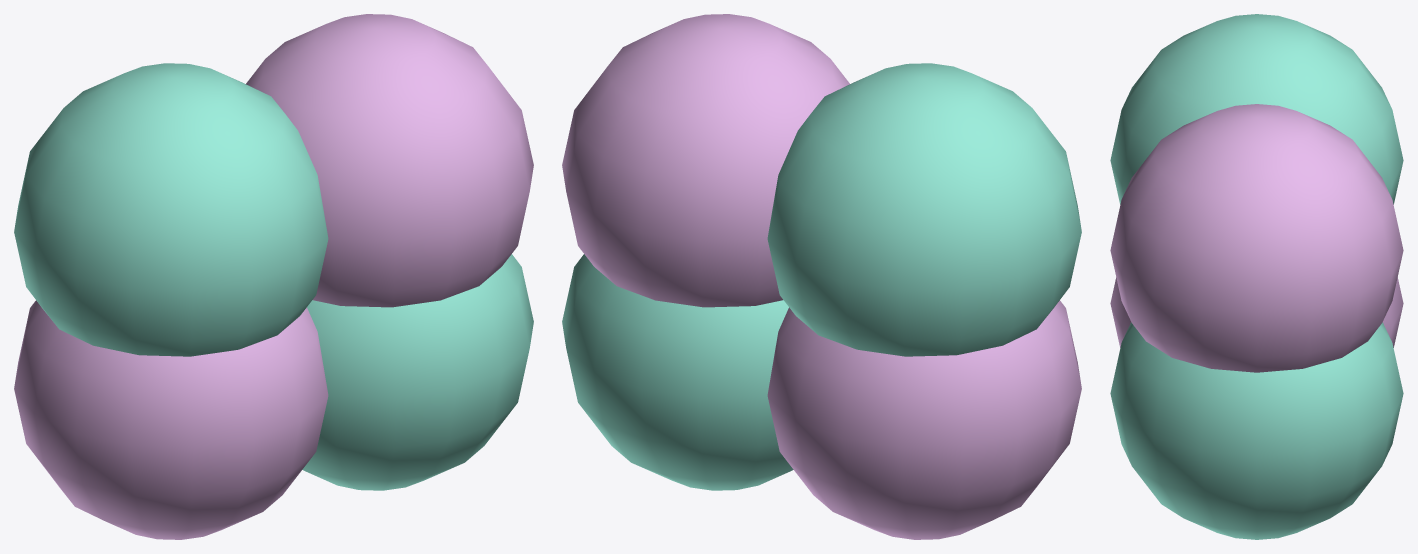
3 renders of one model, left to right at view 1: azimuth 30°, elevation 25°; view 2: azimuth 150°, elevation 25°; view 3: azimuth 270°, elevation 25°, orthographic. The views are drawn at different scales.
Parts seen in each view (by area): view 1: 구, 구.1, 구.3, 구.2; view 2: 구, 구.1, 구.3, 구.2; view 3: 구.1, 구.2, 구, 구.3.
Boxes of the visible parts, box(x1,y1,x2,y2) form: 구: box(14, 63, 328, 356); 구.1: box(246, 14, 533, 307); 구.3: box(14, 300, 328, 539); 구.2: box(302, 254, 533, 490); 구: box(767, 63, 1081, 356); 구.1: box(562, 14, 849, 307); 구.3: box(767, 300, 1081, 539); 구.2: box(562, 254, 793, 490); 구.1: box(1110, 104, 1403, 372); 구.2: box(1110, 322, 1403, 539); 구: box(1110, 14, 1403, 204); 구.3: box(1110, 277, 1403, 347).
Size of the model in its own units: 3.45 by 3.08 by 2.
